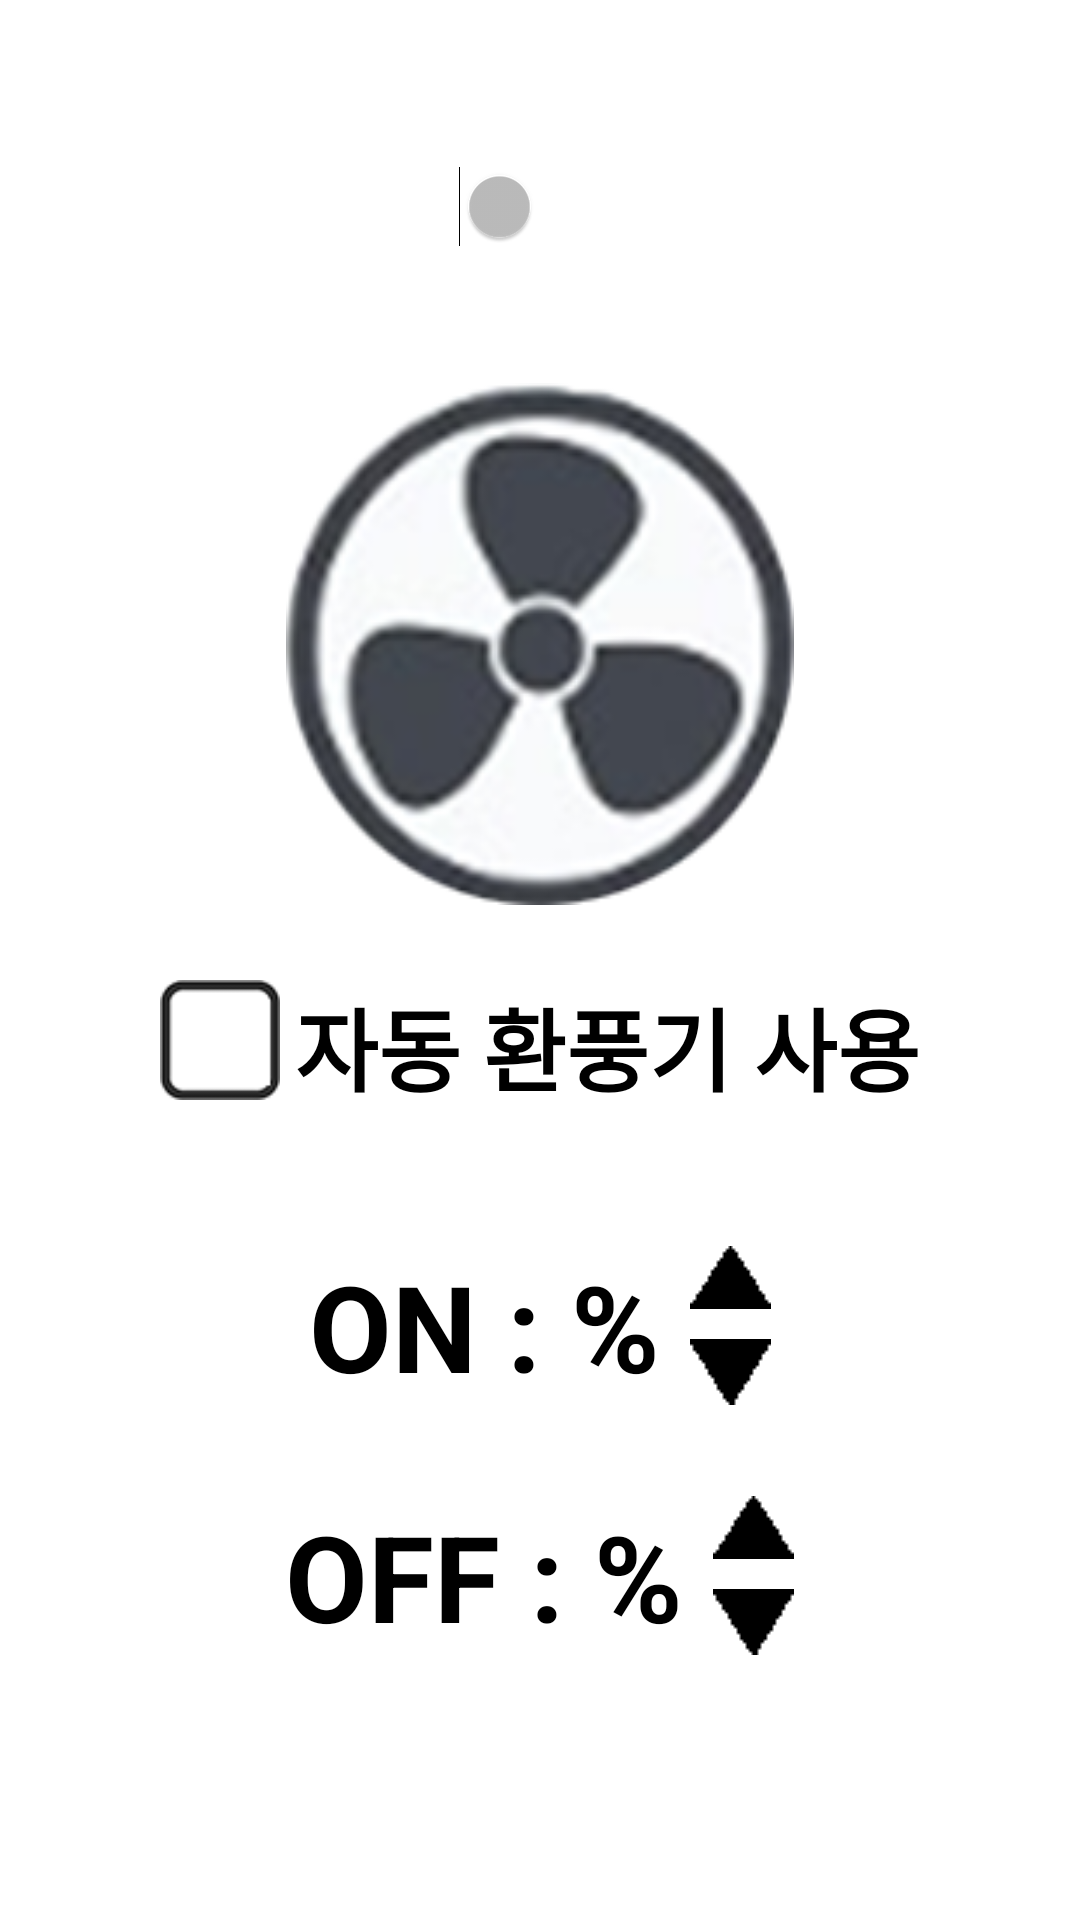

Screen size 1080×1920. Icon name, then its center in pixels as (x,y):
checkbox: (220,1040)
down: (730,1372), (753,1622)
